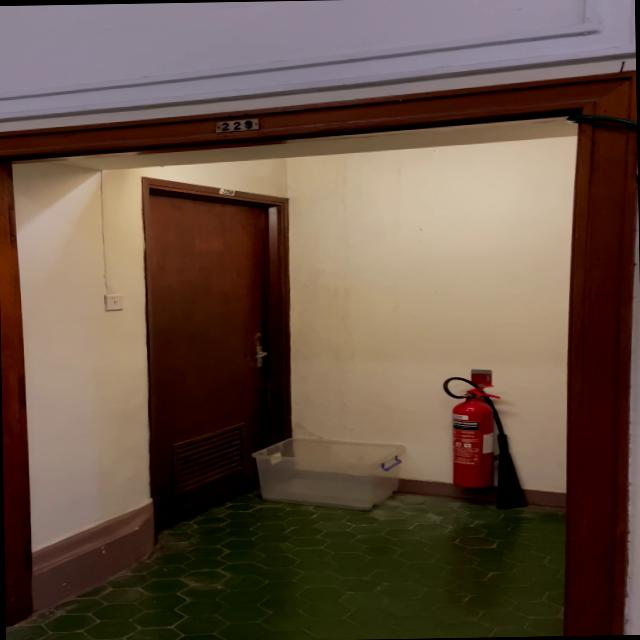room229: (212, 116, 260, 134)
